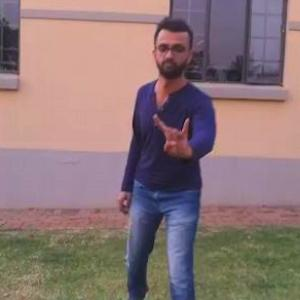takeoff-hand: (151, 105, 199, 162)
